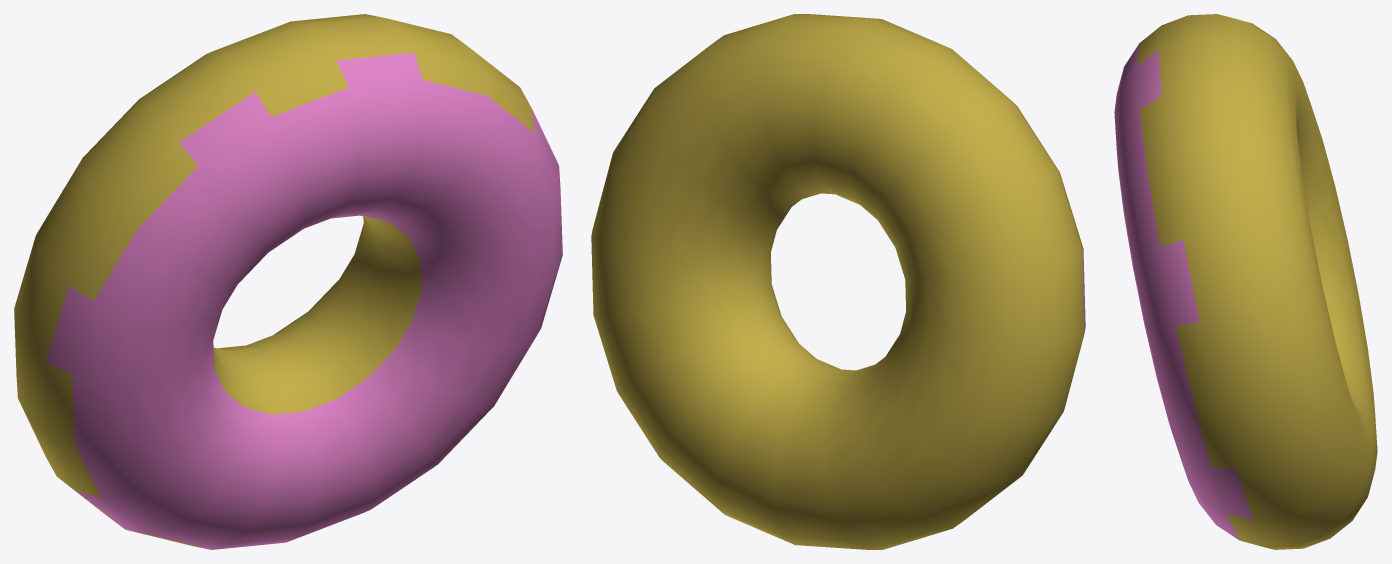
File: DonutModelFinal.fbx
3 renders of one model, left to right at view 1: azimuth 30°, elevation 25°; view 2: azimuth 150°, elevation 25°; view 3: azimuth 270°, elevation 25°, orthographic. The views are drawn at different scales.
Parts seen in each view (by area): view 1: pTorus1; view 2: pTorus1; view 3: pTorus1.
Part boxes in pixels (x1,y1,x2,y2): pTorus1: (14,14,562,549); pTorus1: (591,14,1085,549); pTorus1: (1114,14,1377,549).
Bounding box in the file's own units: 45 × 44.18 × 21.56.
